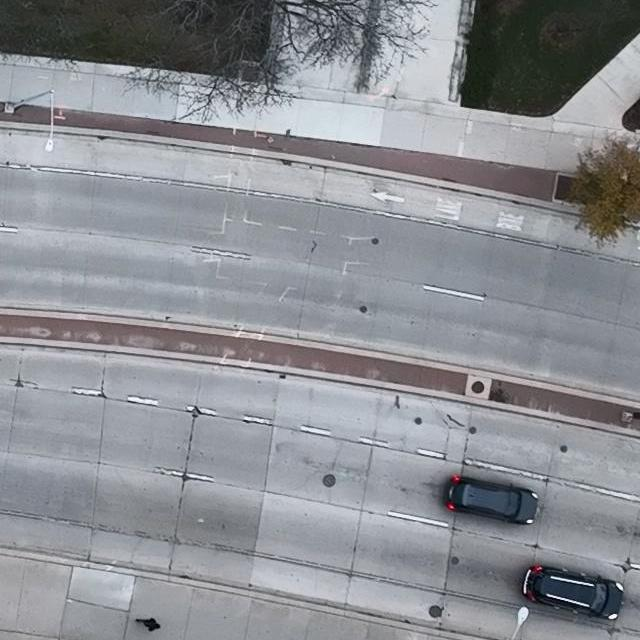car: (522, 563, 623, 622), (443, 474, 538, 523)
